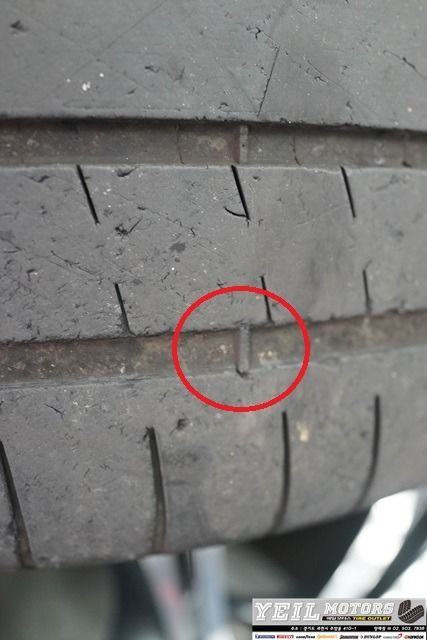bad_condition: (1, 1, 427, 565)
